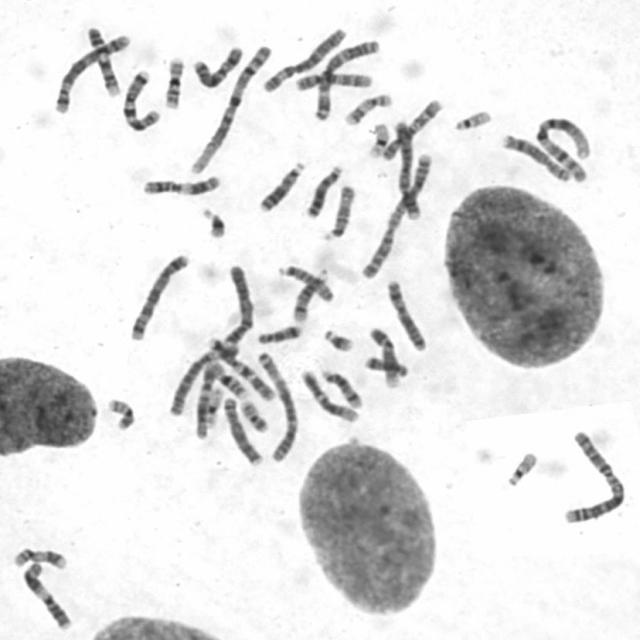A1: (185, 40, 275, 176), (530, 111, 594, 184)
A2: (356, 147, 434, 280), (556, 424, 627, 526)
A3: (308, 34, 382, 120), (252, 346, 300, 464)
B4: (386, 114, 424, 220), (216, 262, 259, 351)
B5: (48, 26, 131, 115), (124, 247, 192, 343)
C10: (377, 94, 444, 161), (289, 64, 375, 92)
C11: (17, 556, 75, 632), (138, 169, 224, 197)
C12: (296, 365, 362, 424), (190, 355, 223, 441)
C6: (258, 21, 348, 94), (166, 342, 240, 419)
C7: (204, 332, 278, 402), (117, 65, 162, 132)
C8: (497, 128, 573, 182), (219, 391, 265, 467)
C9: (80, 20, 123, 98), (363, 322, 403, 389)
D13: (252, 154, 308, 213), (300, 159, 346, 219)
D14: (287, 264, 331, 324), (316, 363, 365, 410)
D15: (274, 258, 337, 303), (318, 179, 358, 243)
E16: (198, 356, 250, 399), (158, 50, 186, 110)
E17: (340, 88, 394, 126), (8, 541, 70, 571)
E18: (360, 351, 410, 379), (251, 319, 304, 345)
F19: (203, 384, 229, 432), (363, 117, 392, 160)
F20: (234, 394, 270, 434), (102, 392, 137, 431)
G21: (196, 201, 228, 240), (319, 323, 357, 353)
G22: (501, 446, 539, 488), (448, 104, 494, 132)
X: (382, 274, 430, 352), (187, 40, 246, 90)
